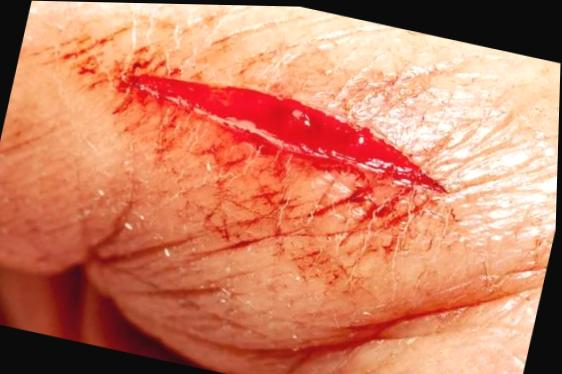Fire: (48, 31, 447, 250)
